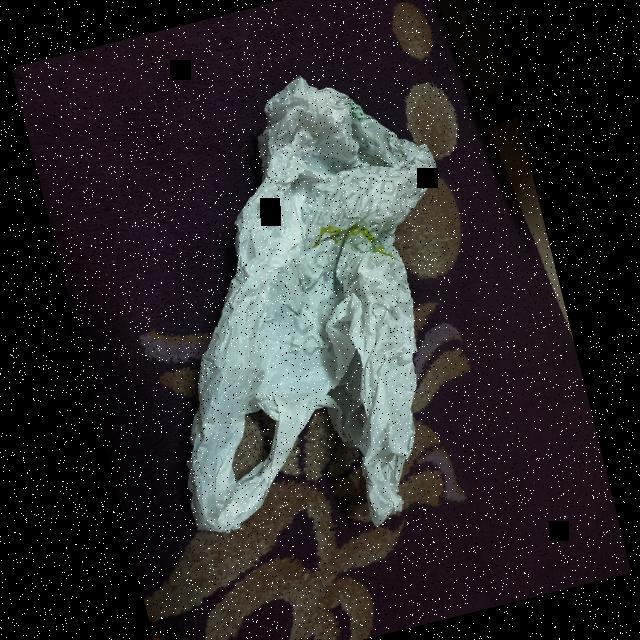plastic_bag: (83, 39, 526, 584)
